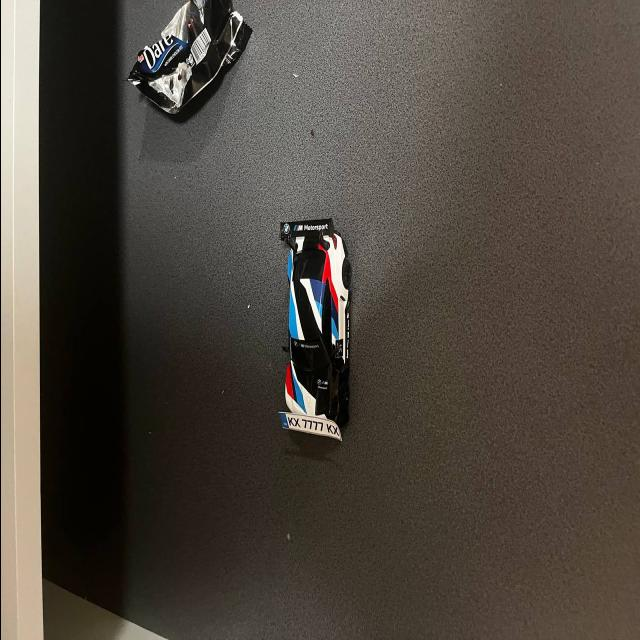cars: (278, 188, 352, 471)
